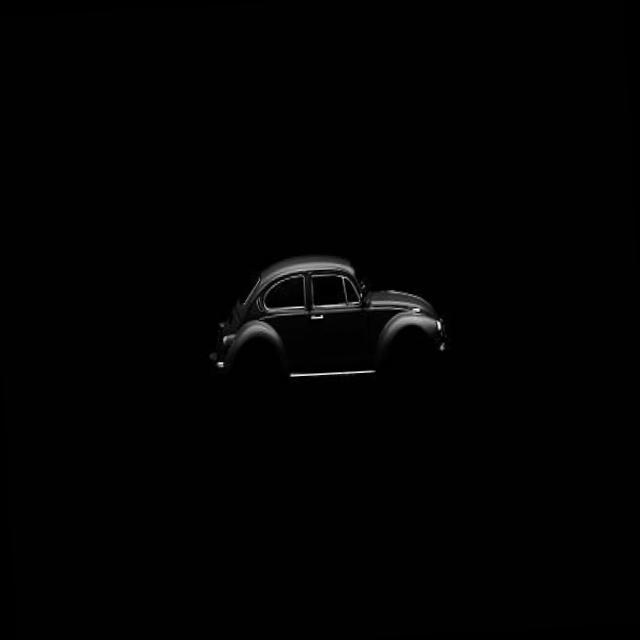car: (203, 250, 452, 403)
